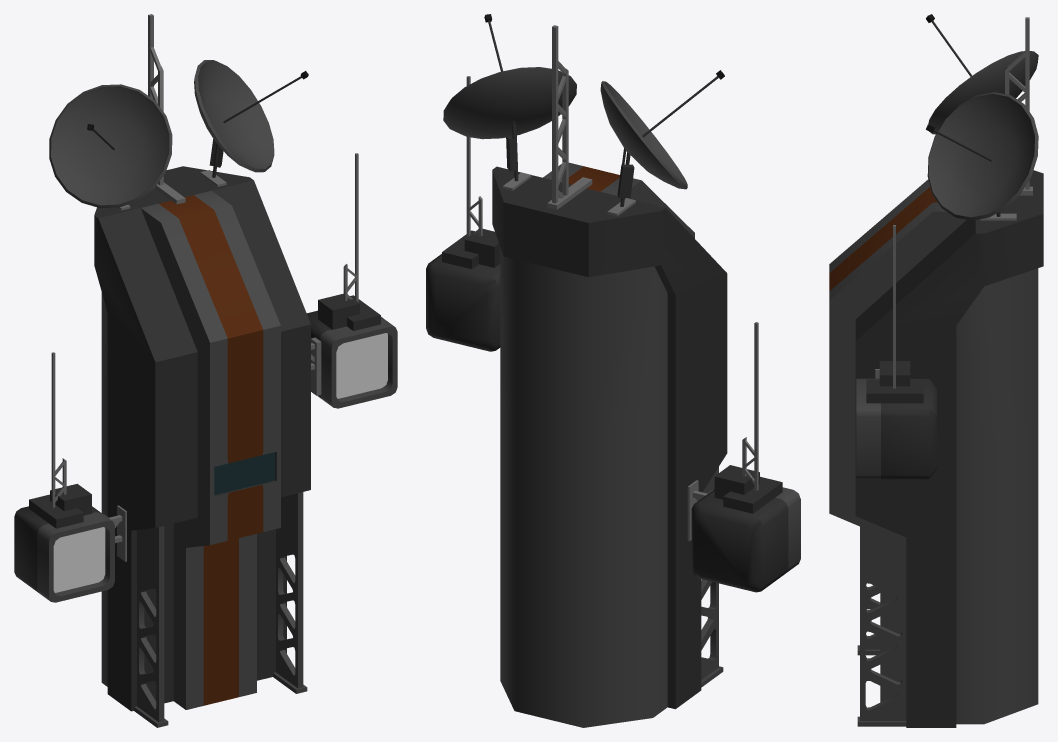
Rendered from Computer_Large.obj.
3 views of the same model, side by side, from view 1: azimuth 30°, elevation 25°; view 2: azimuth 150°, elevation 25°; view 3: azimuth 270°, elevation 25° (orthographic). The views are drawn at different scales.
Visible parts, largest first — view 1: Computer_Large_Cube.012; view 2: Computer_Large_Cube.012; view 3: Computer_Large_Cube.012.
Part boxes in pixels (x1,y1,x2,y2): Computer_Large_Cube.012: (14, 14, 397, 727); Computer_Large_Cube.012: (426, 14, 800, 727); Computer_Large_Cube.012: (829, 14, 1043, 727).
Size of the model in its own units: 1.29 by 2.38 by 0.6898.
